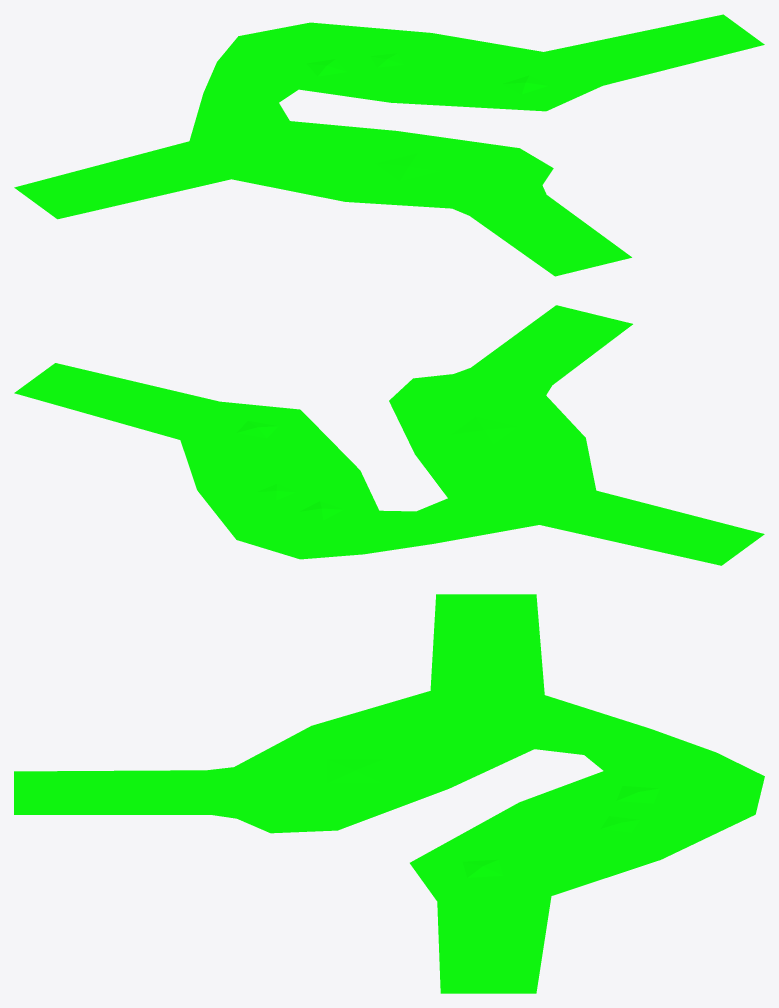
Rendered from s07a_tc3-floor.glb.
3 renders of one model, top to bottom at view 1: azimuth 30°, elevation 25°; view 2: azimuth 150°, elevation 25°; view 3: azimuth 270°, elevation 25°, orthographic. The views are drawn at different scales.
Visible parts, largest first — view 1: collision_floor-colonly; view 2: collision_floor-colonly; view 3: collision_floor-colonly.
Boxes of the visible parts, x1,y1,x2,y2 form: collision_floor-colonly: (14, 14, 764, 276); collision_floor-colonly: (14, 305, 764, 565); collision_floor-colonly: (14, 594, 764, 993).
Size of the model in its own units: 61 by 0.2266 by 48.46.
